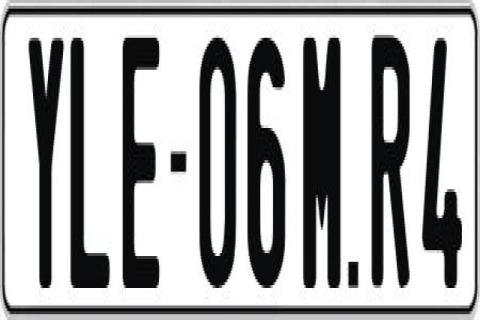0: (197, 29, 240, 297), (246, 35, 290, 294), (420, 38, 458, 306)
E: (122, 35, 162, 294)
L: (68, 29, 106, 279)
M: (301, 35, 344, 285)
R: (370, 35, 412, 299)
Y: (28, 35, 65, 294)
